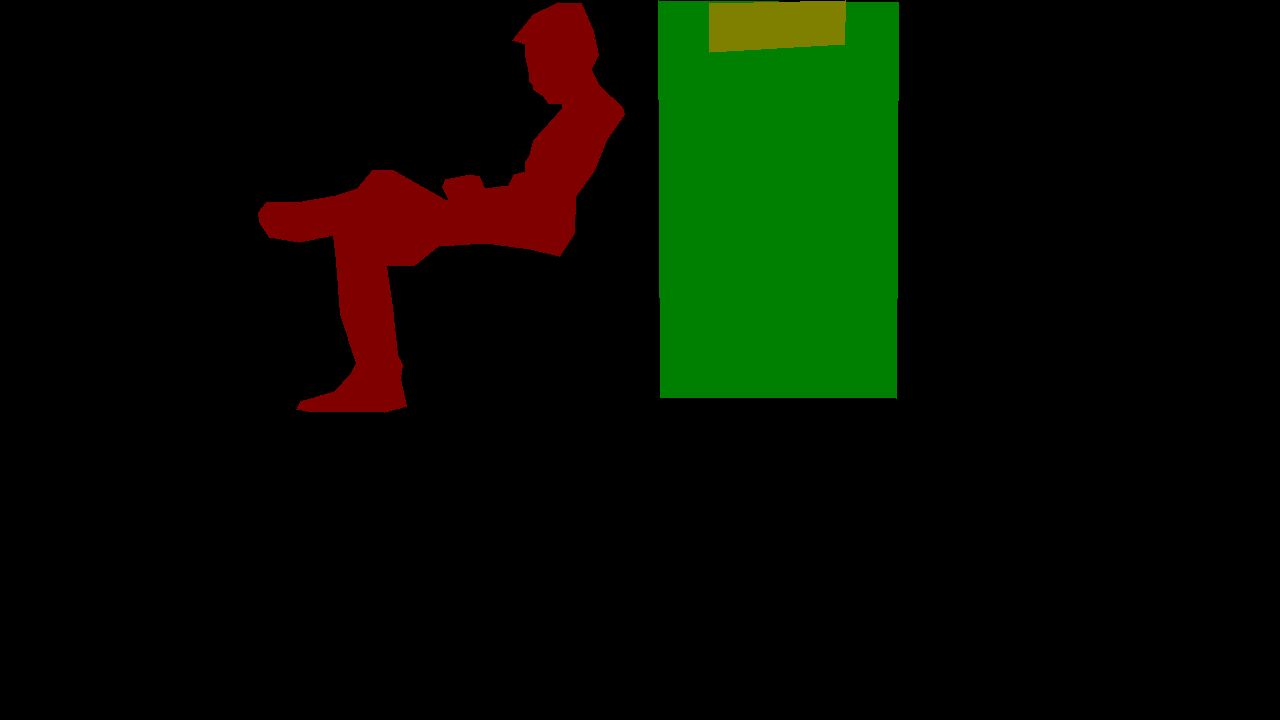door: (658, 0, 898, 398)
person: (258, 2, 624, 412)
sign: (709, 0, 845, 52)
